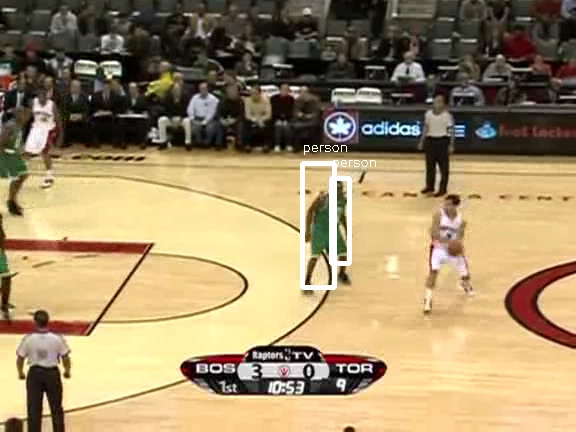person: (314, 184, 348, 265), (313, 184, 347, 265), (315, 184, 349, 265), (314, 183, 348, 264), (314, 185, 348, 266)
target_negative: (62, 106, 385, 424), (232, 131, 494, 271), (156, 192, 372, 318), (187, 278, 290, 410), (540, 125, 565, 331), (487, 205, 536, 282)
